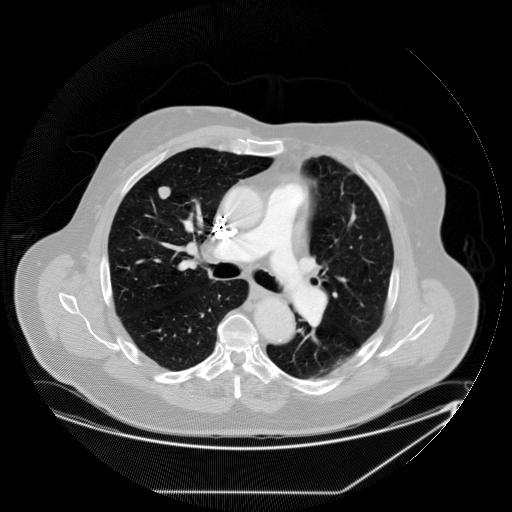nodule: (155, 183, 173, 201)
